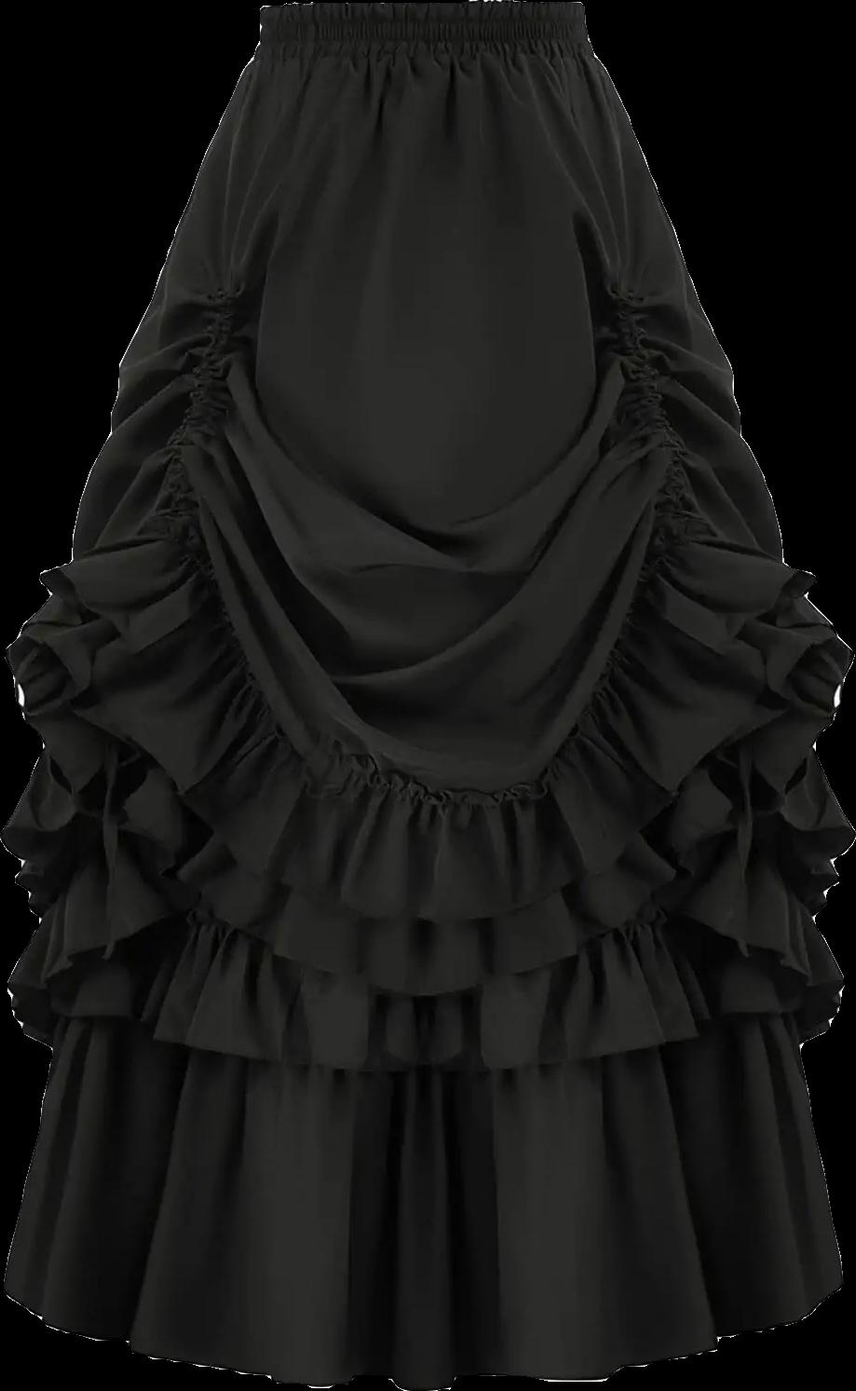Hemline: (55, 469, 790, 814), (2, 689, 832, 900), (0, 1276, 850, 1390), (5, 875, 829, 990), (20, 1005, 832, 1085)
Waistline: (252, 33, 588, 60), (262, 0, 586, 16)
